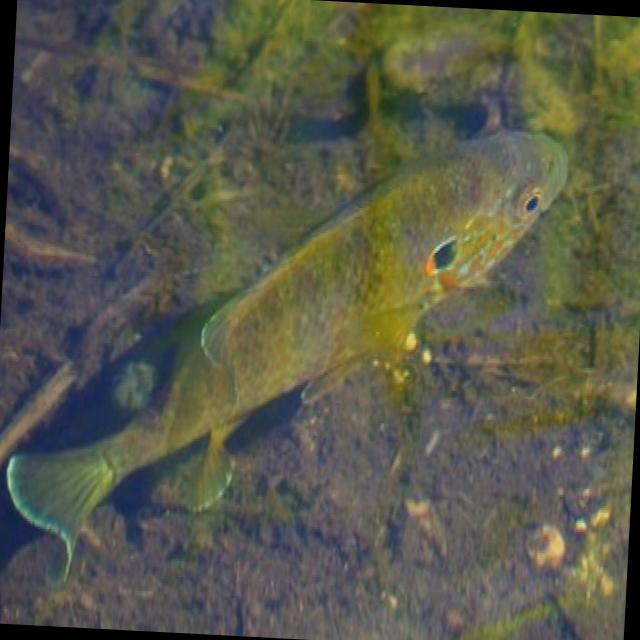Gunes Levregi: (0, 103, 571, 605)
